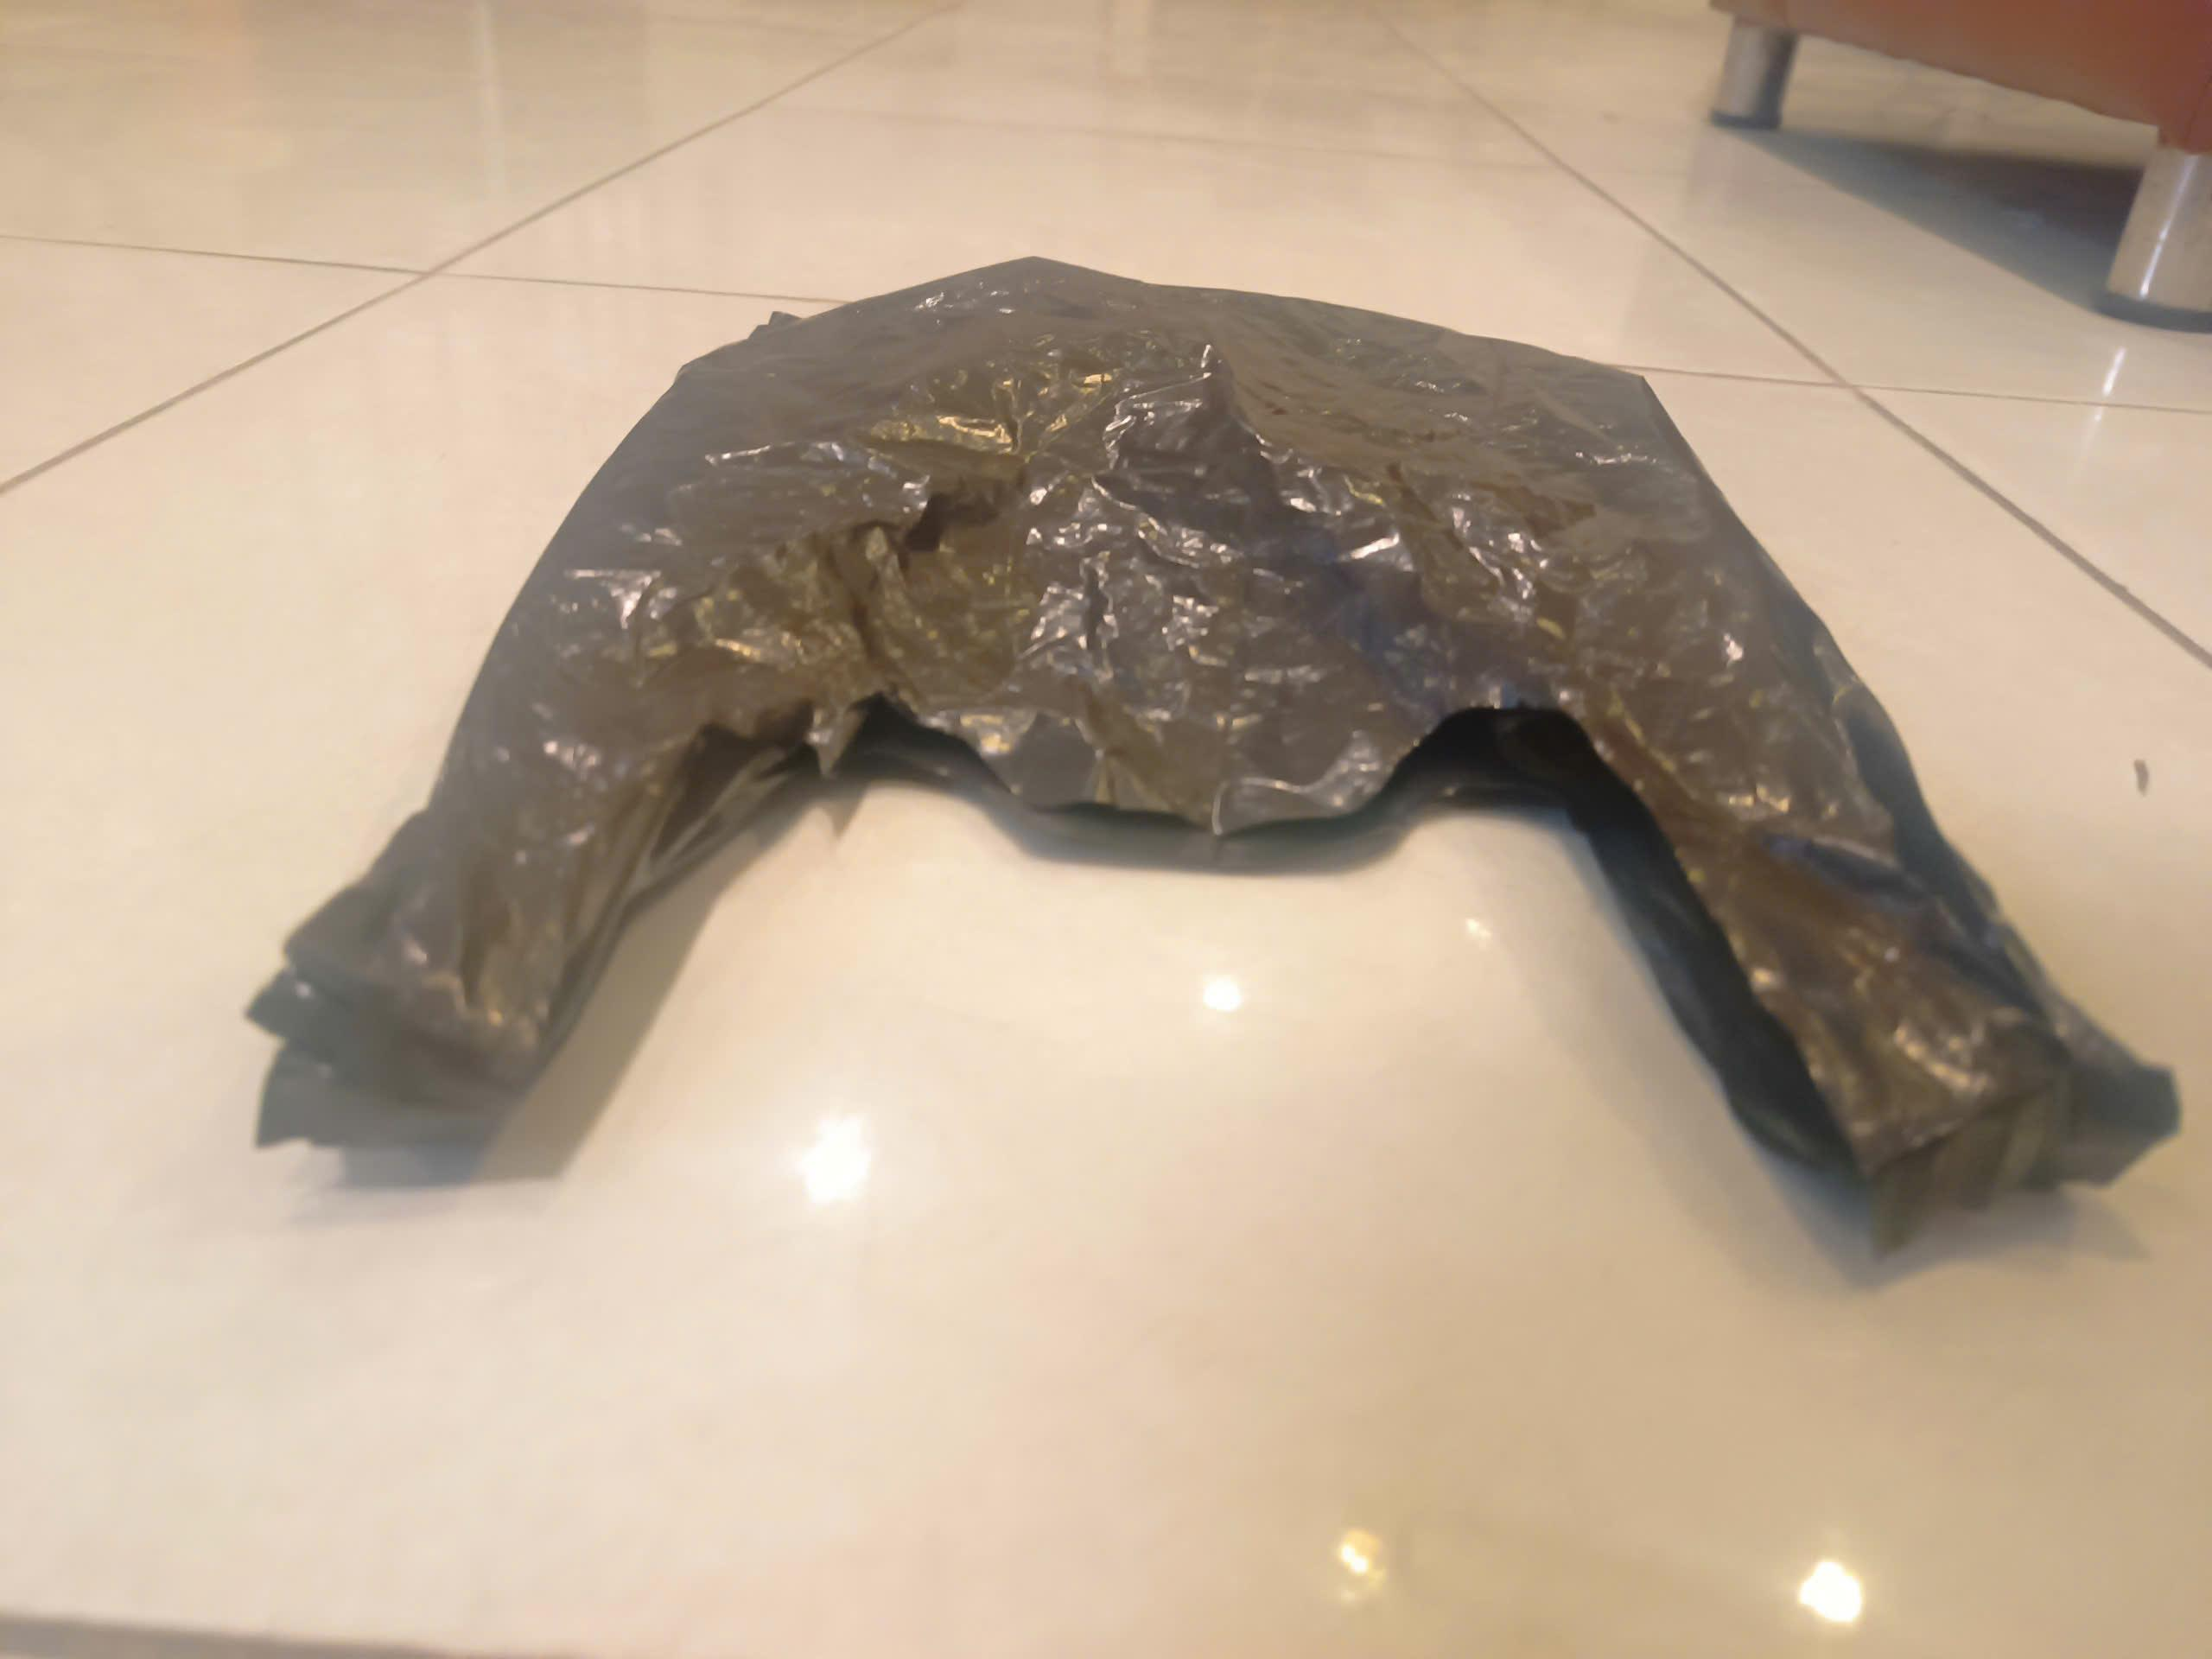Vo co: (284, 251, 2189, 1262)
